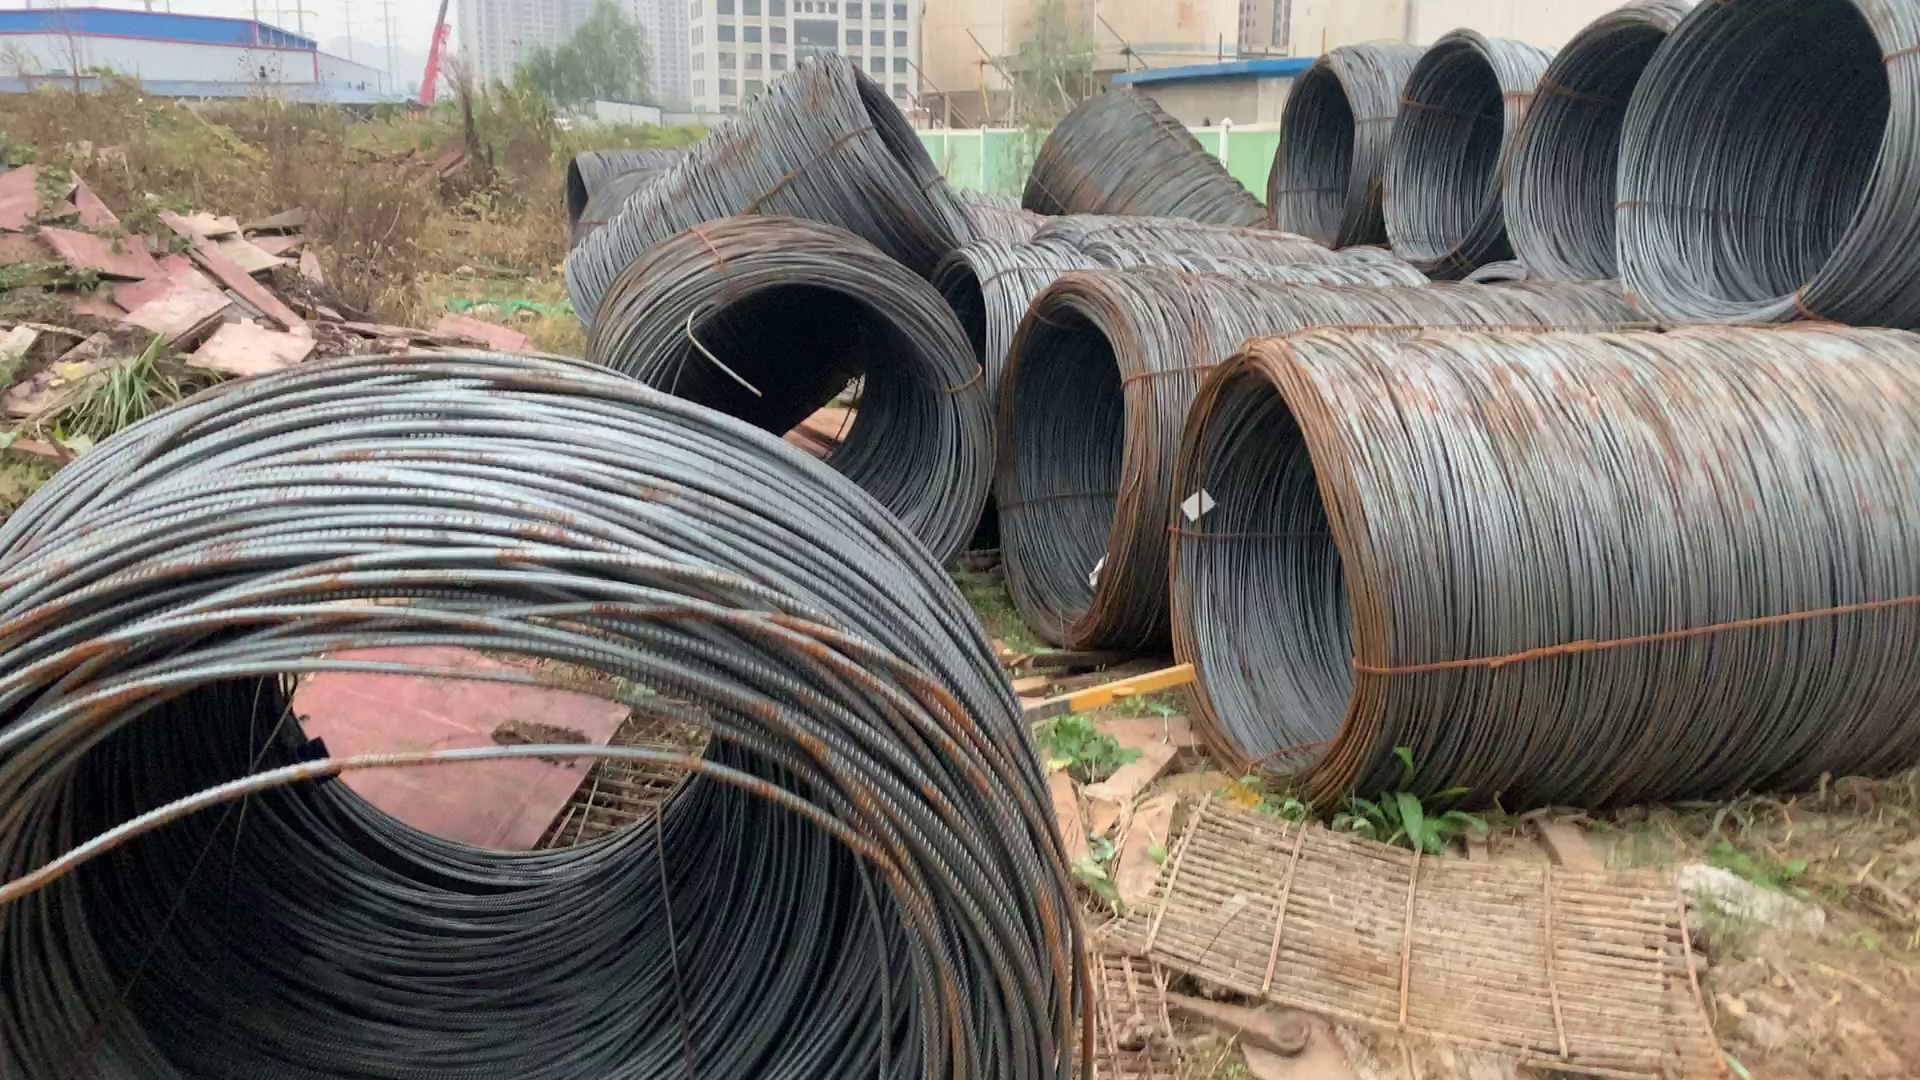coil: (24, 477, 1092, 1080), (636, 274, 988, 582), (1164, 360, 1396, 816), (1633, 4, 1884, 327), (1007, 266, 1160, 654), (1507, 3, 1648, 313), (829, 61, 977, 249), (1389, 29, 1513, 252), (1269, 61, 1374, 262), (560, 157, 603, 232)
